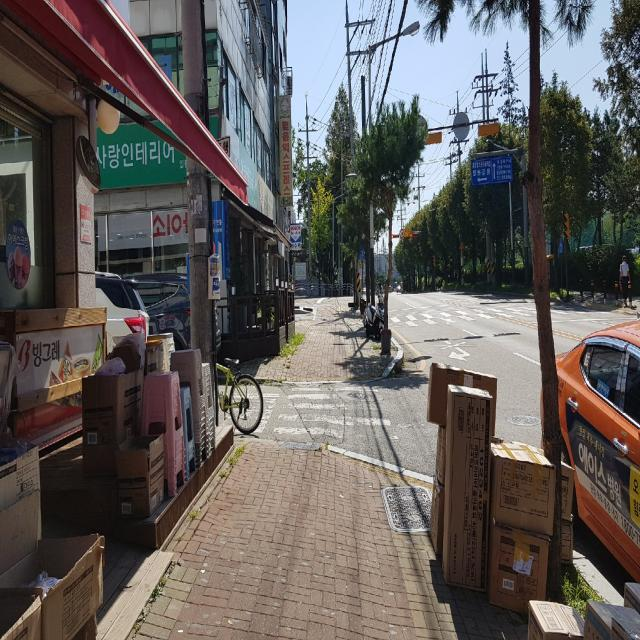횡단보도: (273, 386, 399, 440), (395, 313, 531, 321)
